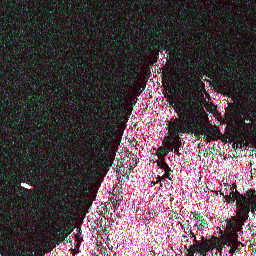ship: (18, 180, 34, 192)
